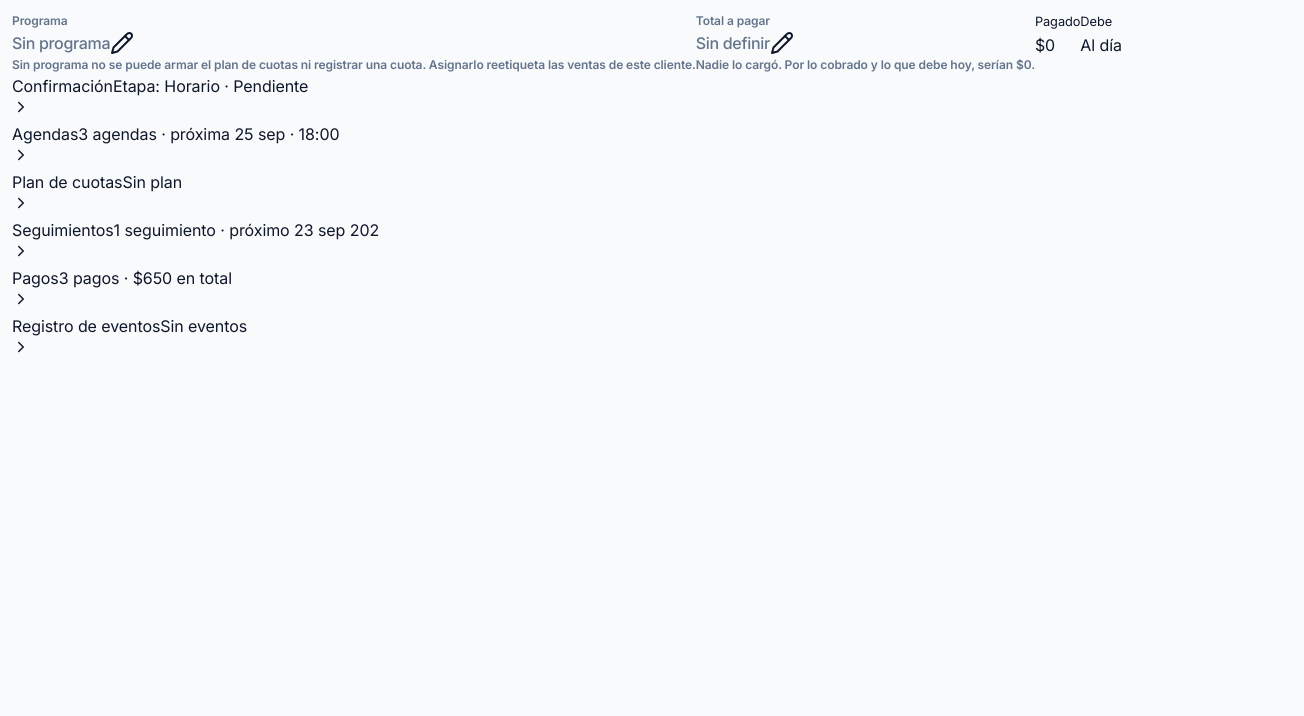
Test: a quién se le hizo una transferencia, en la fila › una marcada dice a quién, una sin marcar lo dice, y un pago por Stripe no dice nada
Click the button "Pagos3 pagos · $650 en total". click: (122, 287)
box: [12, 266, 232, 308]
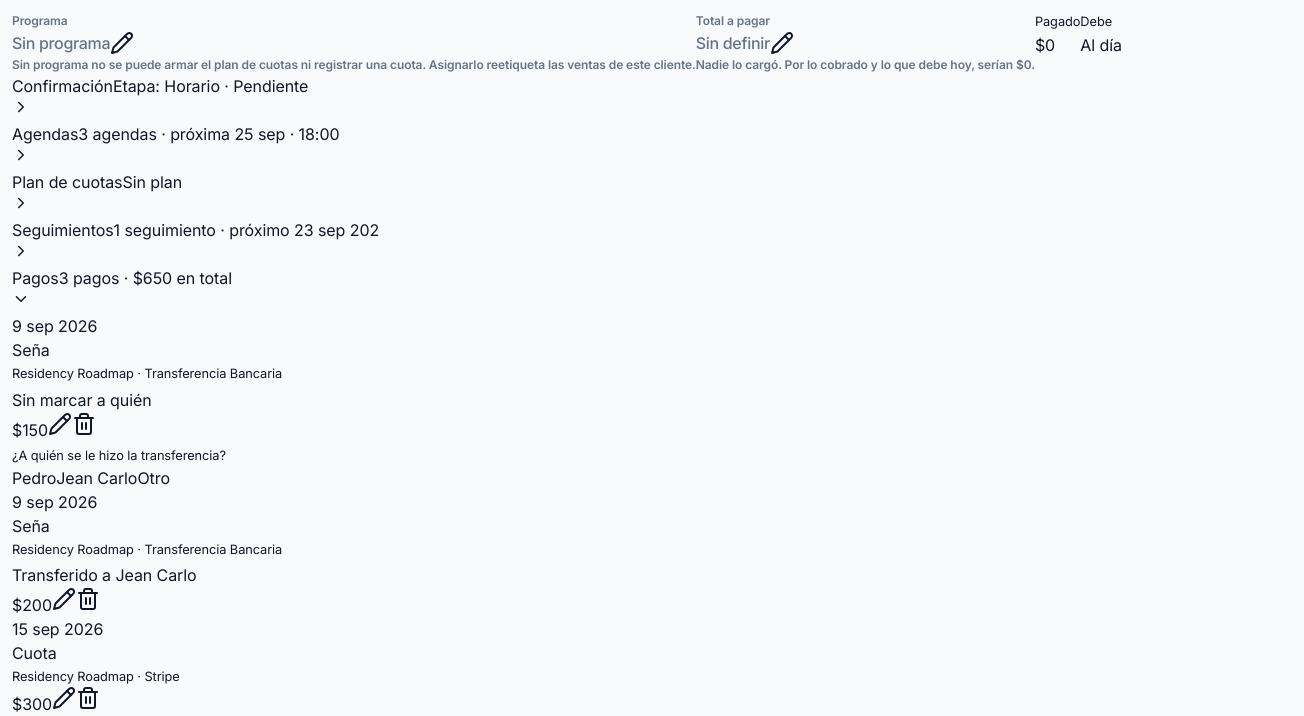
expect the text "Transferido a Jean Carlo" is shown: met, box [12, 563, 197, 587]
expect the text "Sin marcar a quién" is shown: met, box [12, 388, 152, 412]
